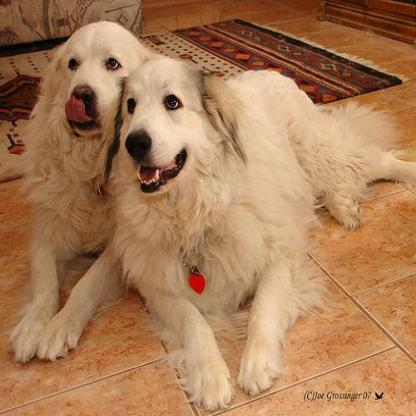Great_Pyrenees: (112, 57, 414, 408), (5, 18, 162, 361)
